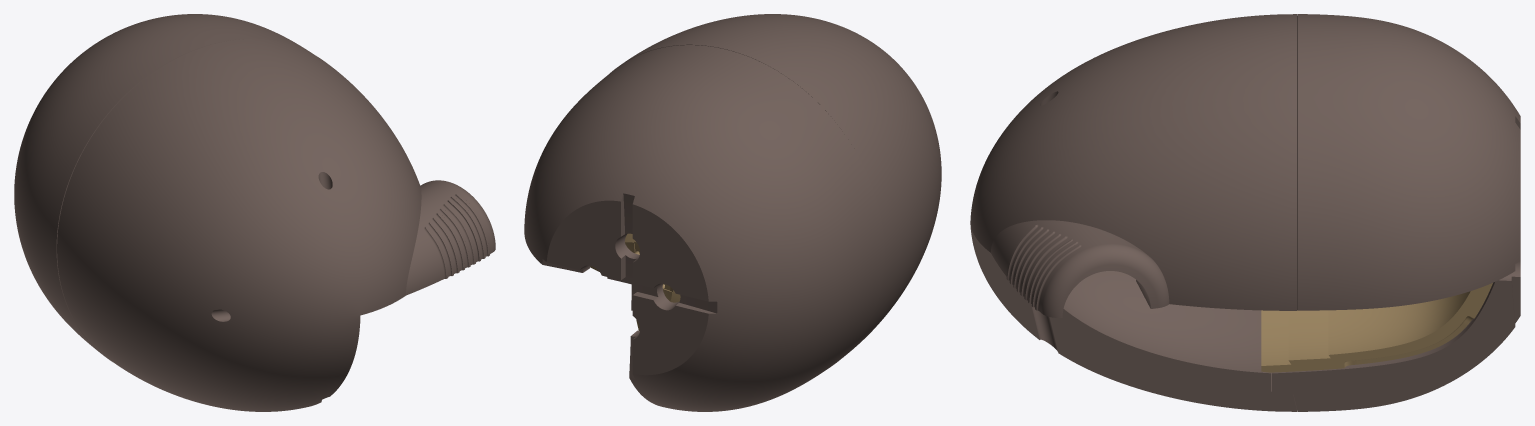
The model's file is TNE3QTRV2-v1.glb.
The picture shows the model from 3 angles, left to right: view 1: azimuth 30°, elevation 25°; view 2: azimuth 150°, elevation 25°; view 3: azimuth 270°, elevation 25°; orthographic projection. The views are drawn at different scales.
Visible parts, largest first — view 1: mesh_0_2, mesh_0; view 2: mesh_0, mesh_0_2, mesh_0_1; view 3: mesh_0_2, mesh_0, mesh_0_1.
Boxes of the visible parts, x1=… form: mesh_0_2: x1=57, y1=39, x2=495, y2=411; mesh_0: x1=14, y1=14, x2=312, y2=361; mesh_0: x1=524, y1=45, x2=884, y2=411; mesh_0_2: x1=610, y1=14, x2=941, y2=357; mesh_0_1: x1=590, y1=233, x2=680, y2=330; mesh_0_2: x1=970, y1=14, x2=1297, y2=411; mesh_0: x1=1271, y1=14, x2=1520, y2=411; mesh_0_1: x1=1261, y1=283, x2=1492, y2=372.
Size of the model in its own units: 7.19 by 6.91 by 9.11.
